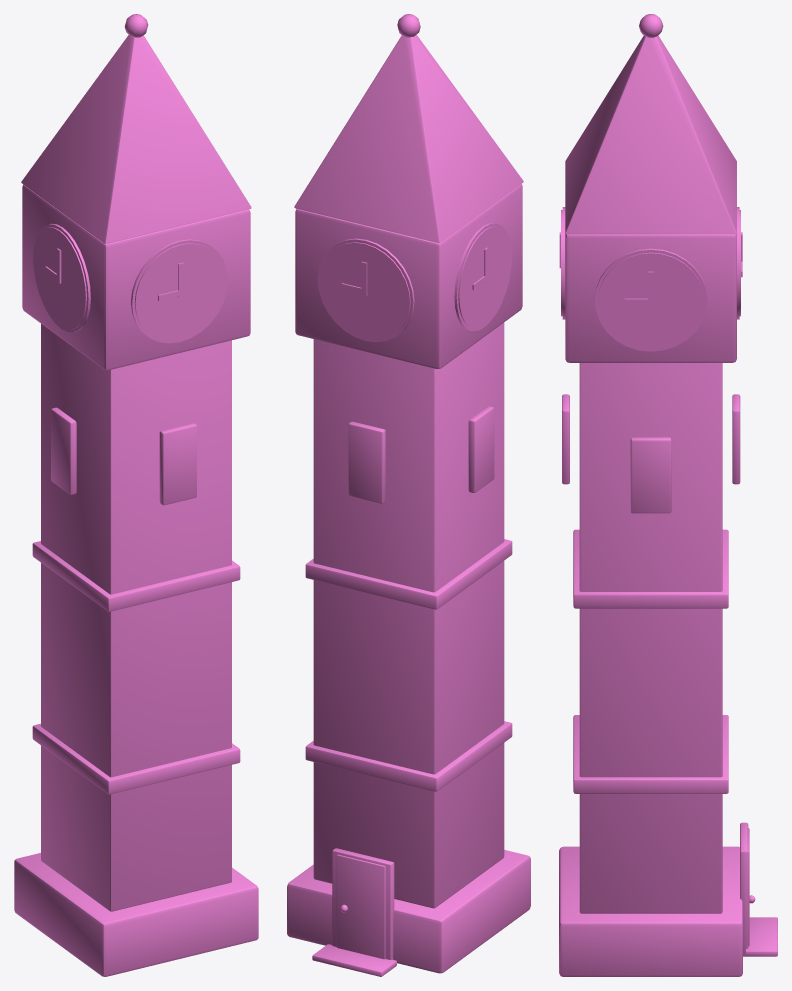
Rendered from OldTown_ClockTower.fbx.
3 renders of one model, left to right at view 1: azimuth 30°, elevation 25°; view 2: azimuth 150°, elevation 25°; view 3: azimuth 270°, elevation 25°, orthographic.
Parts seen in each view (by area): view 1: ClockTower; view 2: ClockTower; view 3: ClockTower.
Boxes of the visible parts, x1,y1,x2,y2 form: ClockTower: [14, 14, 258, 976]; ClockTower: [287, 14, 530, 976]; ClockTower: [559, 14, 777, 976].
Bounding box in the file's own units: 9 × 50.05 × 10.7.
Materials: 1 (1 with a texture image).
